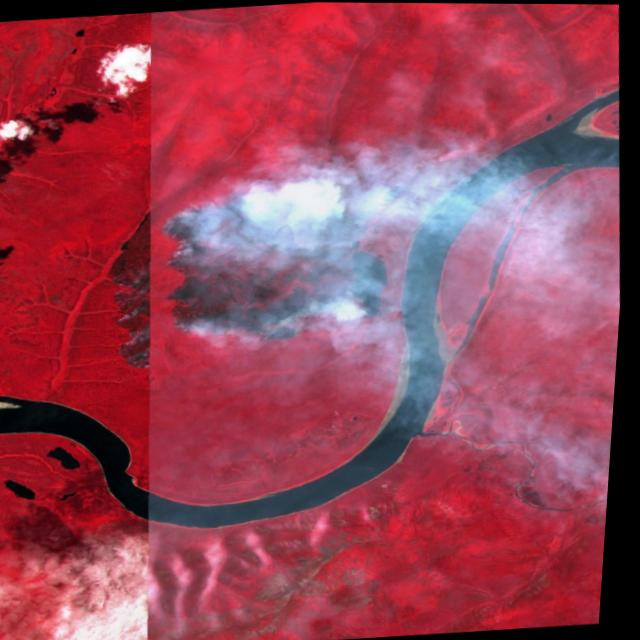fire: (97, 173, 386, 377)
